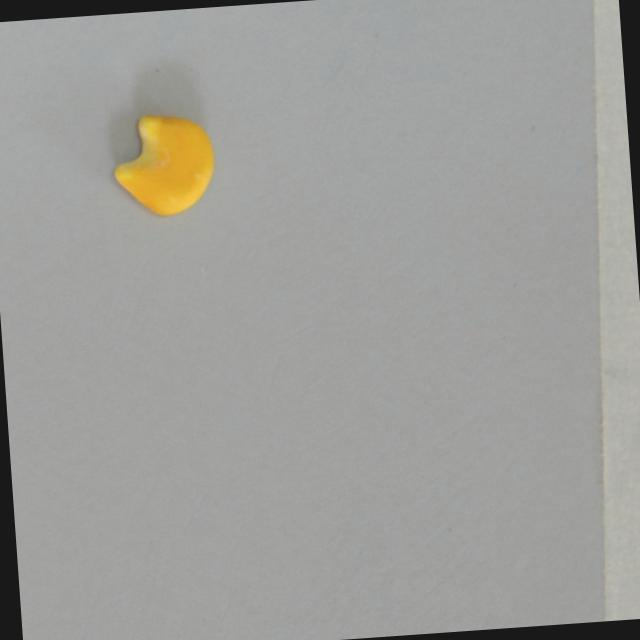no_canjicado: (109, 108, 220, 219)
